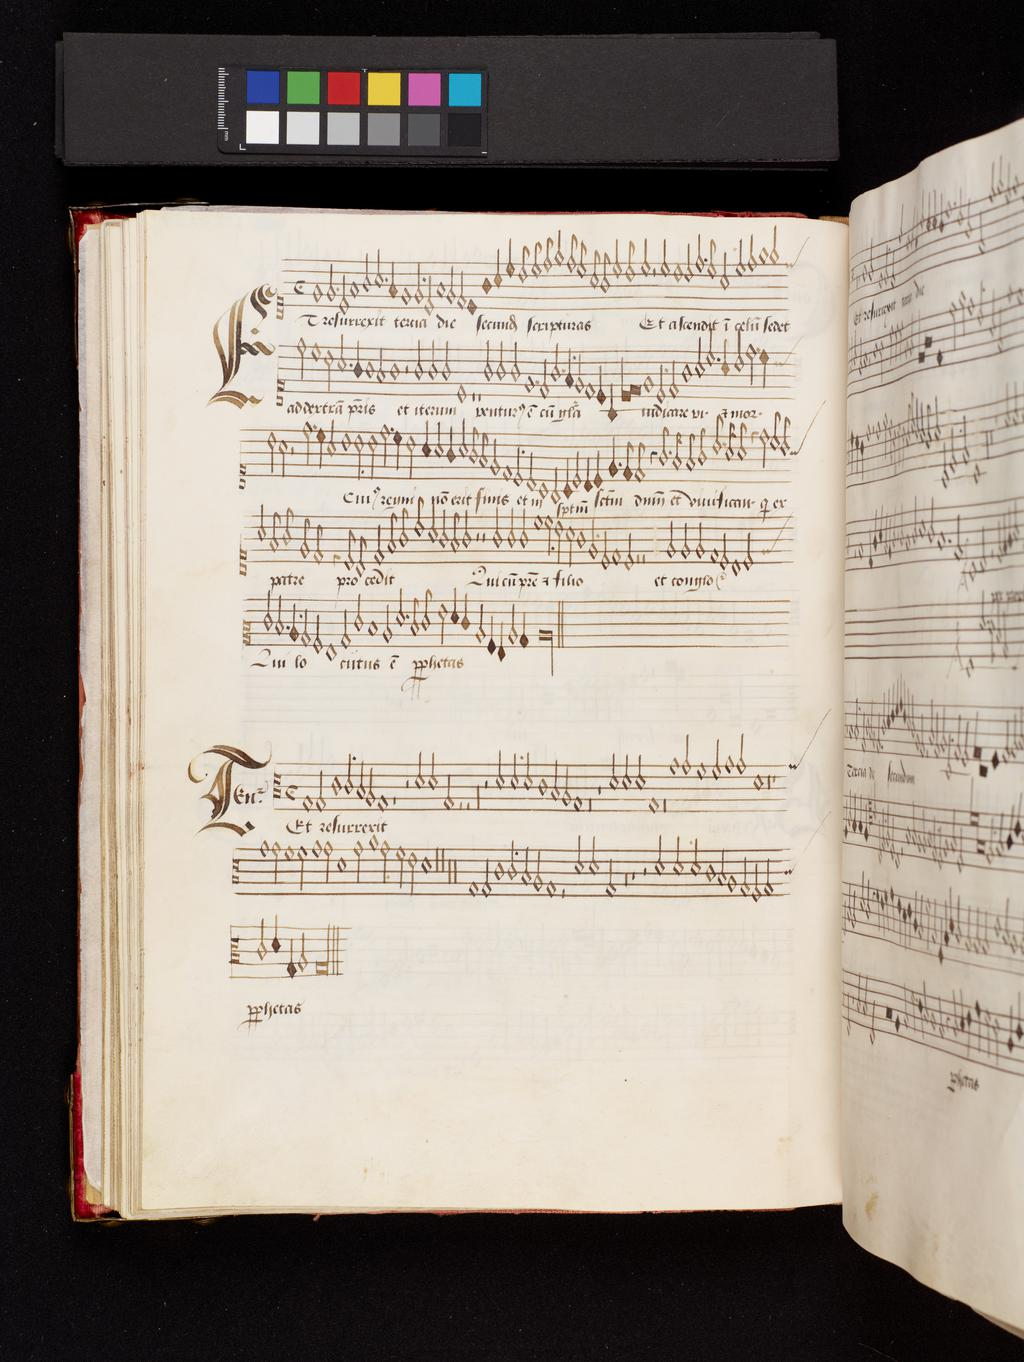c clef_11: (274, 368, 289, 412)
custos_5: (766, 339, 797, 370)
l1colored semibreve_11: (618, 352, 629, 406)
l2colored semibreve_10: (628, 381, 643, 398)
minim rest: (402, 336, 412, 399)
minim_10: (538, 351, 551, 401), (668, 352, 679, 401)
minim_11: (656, 353, 669, 405)
minim_3: (293, 331, 308, 382), (745, 338, 758, 388), (506, 338, 511, 387)
minim_4: (705, 327, 716, 369)
minim_5: (321, 343, 336, 394), (731, 327, 745, 375)
minim_6: (335, 327, 349, 377), (694, 332, 705, 380)
minim_7: (411, 332, 425, 387), (440, 334, 454, 387), (425, 332, 439, 385), (494, 335, 508, 386), (482, 335, 495, 386), (549, 339, 561, 383), (512, 335, 523, 385)
minim_8: (375, 341, 388, 387)
minim_9: (573, 347, 585, 398)
point: (344, 355, 356, 372), (568, 350, 579, 364), (531, 373, 541, 388), (556, 361, 566, 375), (660, 361, 670, 375), (751, 344, 762, 355), (713, 351, 721, 366)
semibreve rest: (468, 340, 478, 409), (473, 342, 482, 402)
semibreve_10: (583, 377, 596, 401)
semibreve_11: (454, 377, 470, 408)
semibreve_4: (310, 336, 324, 368)
semibreve_7: (680, 358, 695, 387), (389, 356, 403, 385), (365, 355, 376, 381)
semibreve_9: (520, 367, 536, 399), (643, 370, 656, 396)
semiminim_11: (595, 361, 607, 410)
semiminim_14: (605, 384, 618, 425)
semiminim_4: (758, 343, 772, 393)
semiminim_6: (720, 334, 733, 383)
semiminim_7: (352, 336, 364, 384)
semiminim_8: (563, 343, 575, 393)
